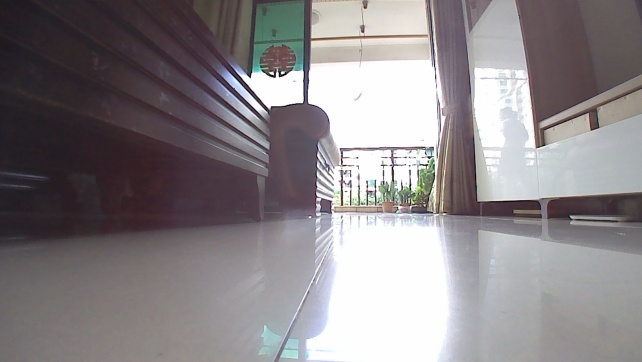TV_stand1: (462, 0, 641, 220)
sofa1: (267, 98, 342, 216)
tea_table: (0, 0, 274, 225)
weight_scale: (569, 214, 634, 222)
